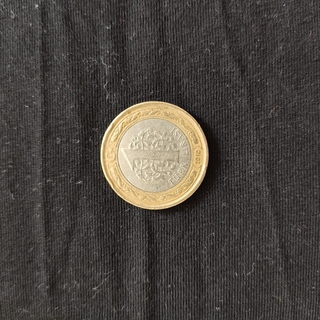1TL: (98, 98, 211, 212)
